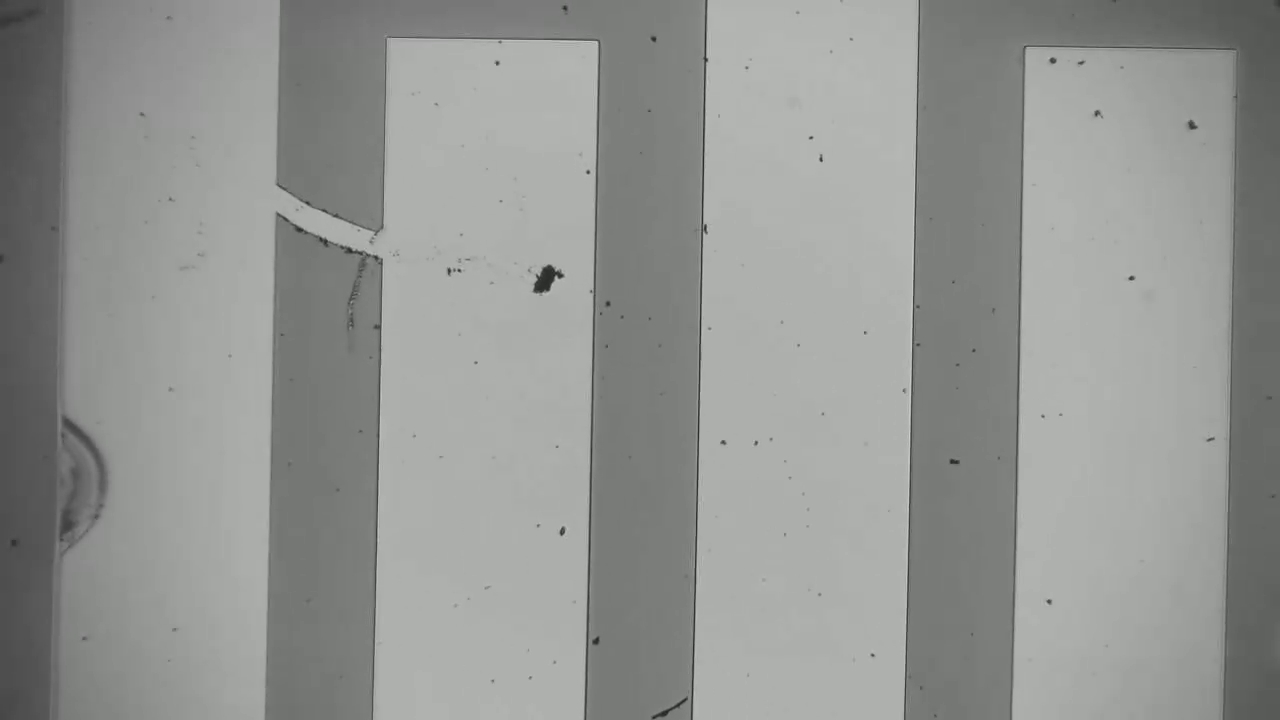Short_circuit: (236, 151, 414, 276)
